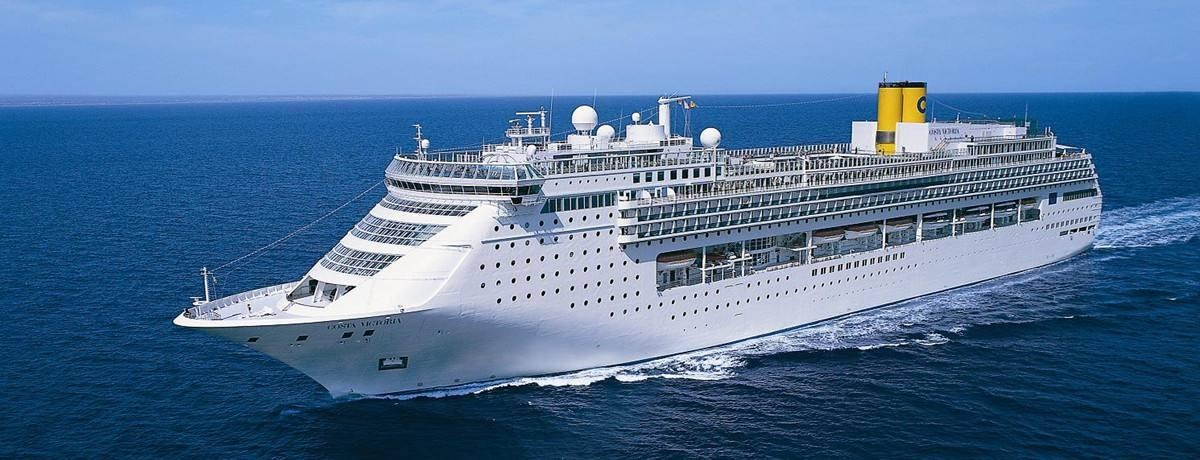youlun: (166, 68, 1104, 400)
